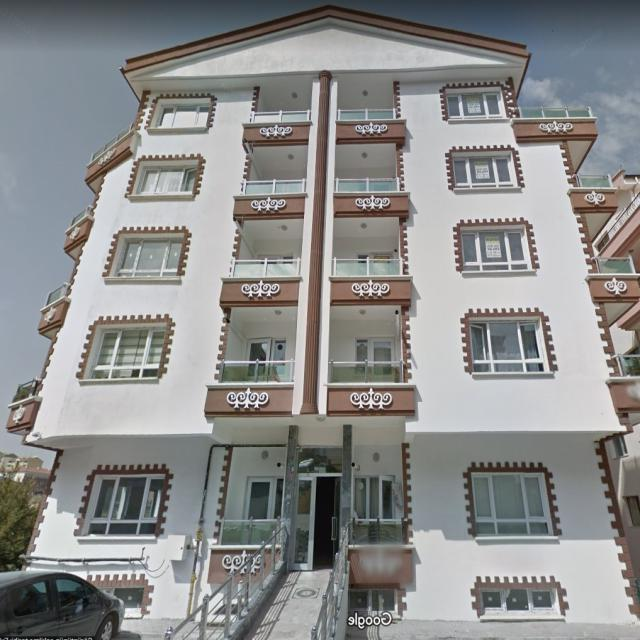Building: (12, 5, 640, 623)
